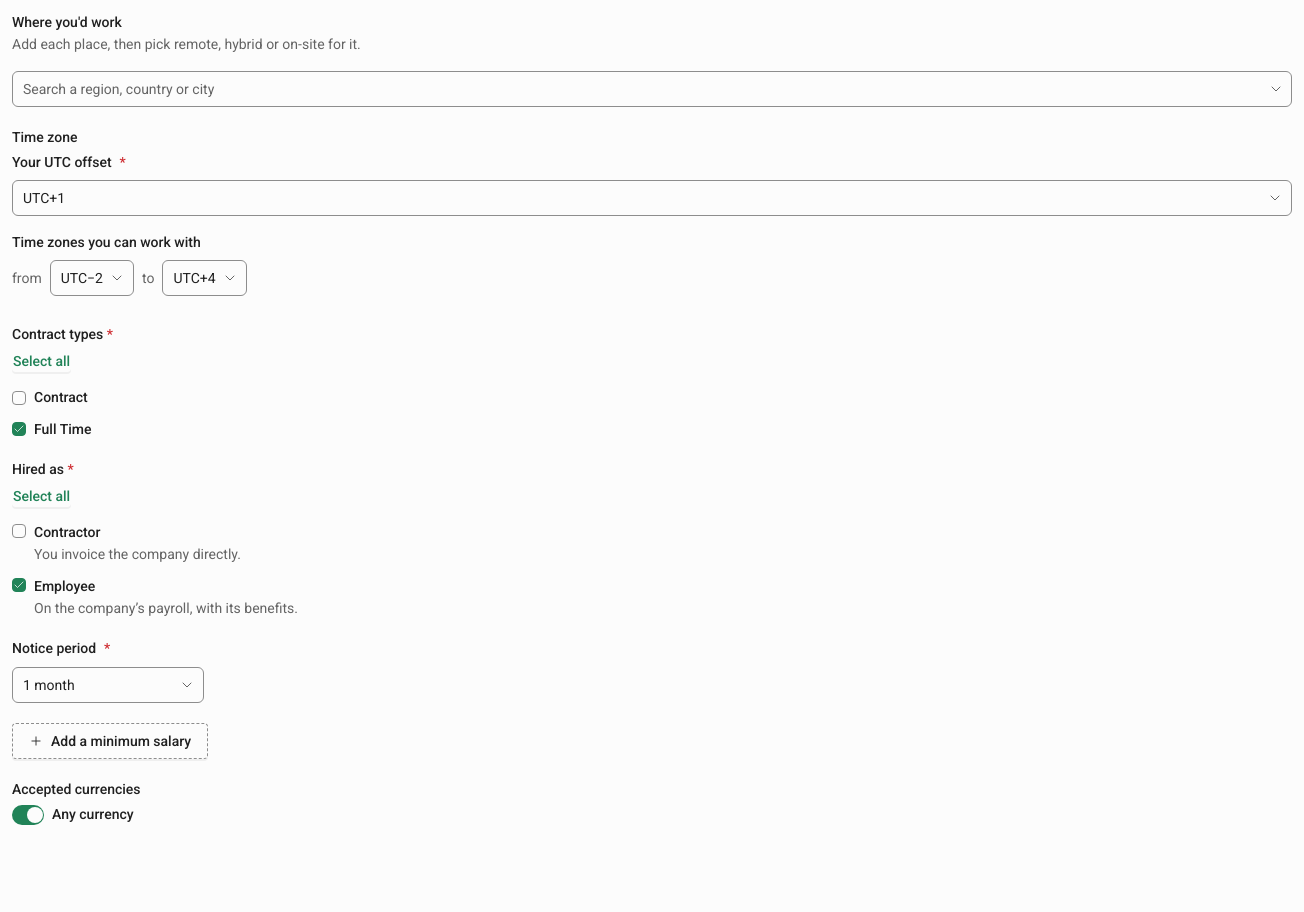
Test: TermsForm › a row with no arrangement is refused
This screenshot has width=1304, height=912.
In the dropdown named "Add a place": (638, 89) [13, 71, 1264, 107], type "germ"
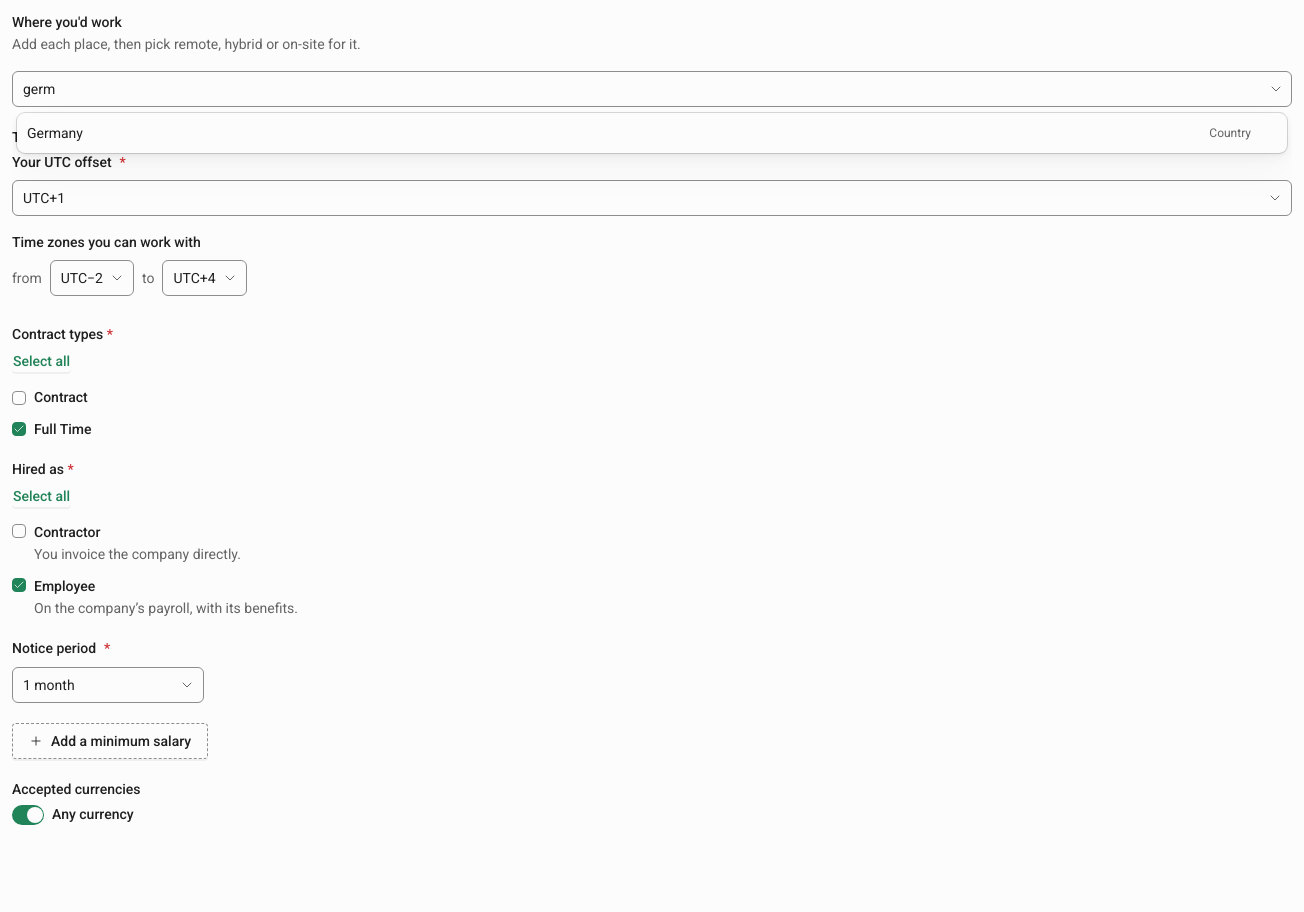
Click the option "Germany Country": (55, 133) [27, 125, 1251, 141]
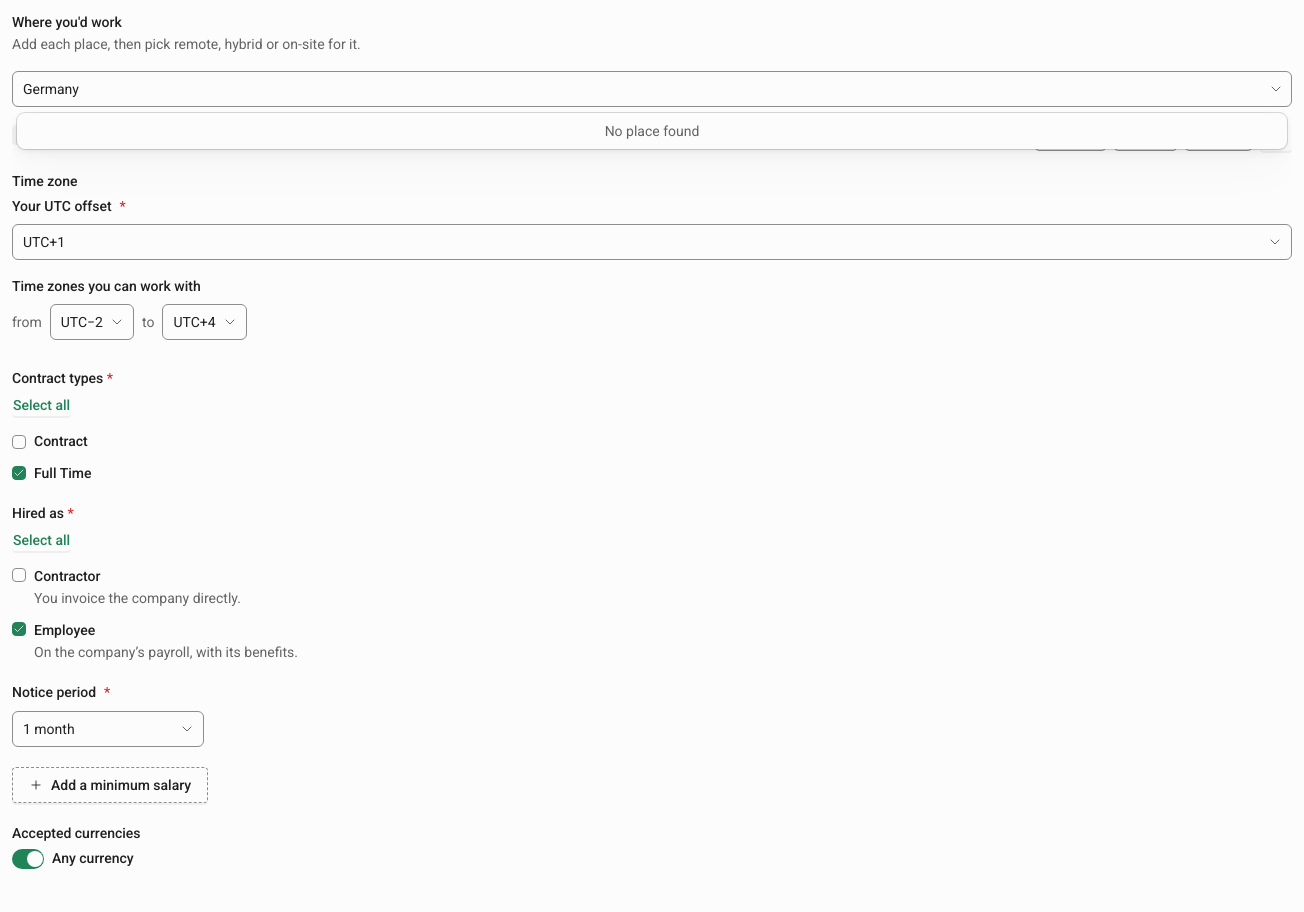
Submit the form
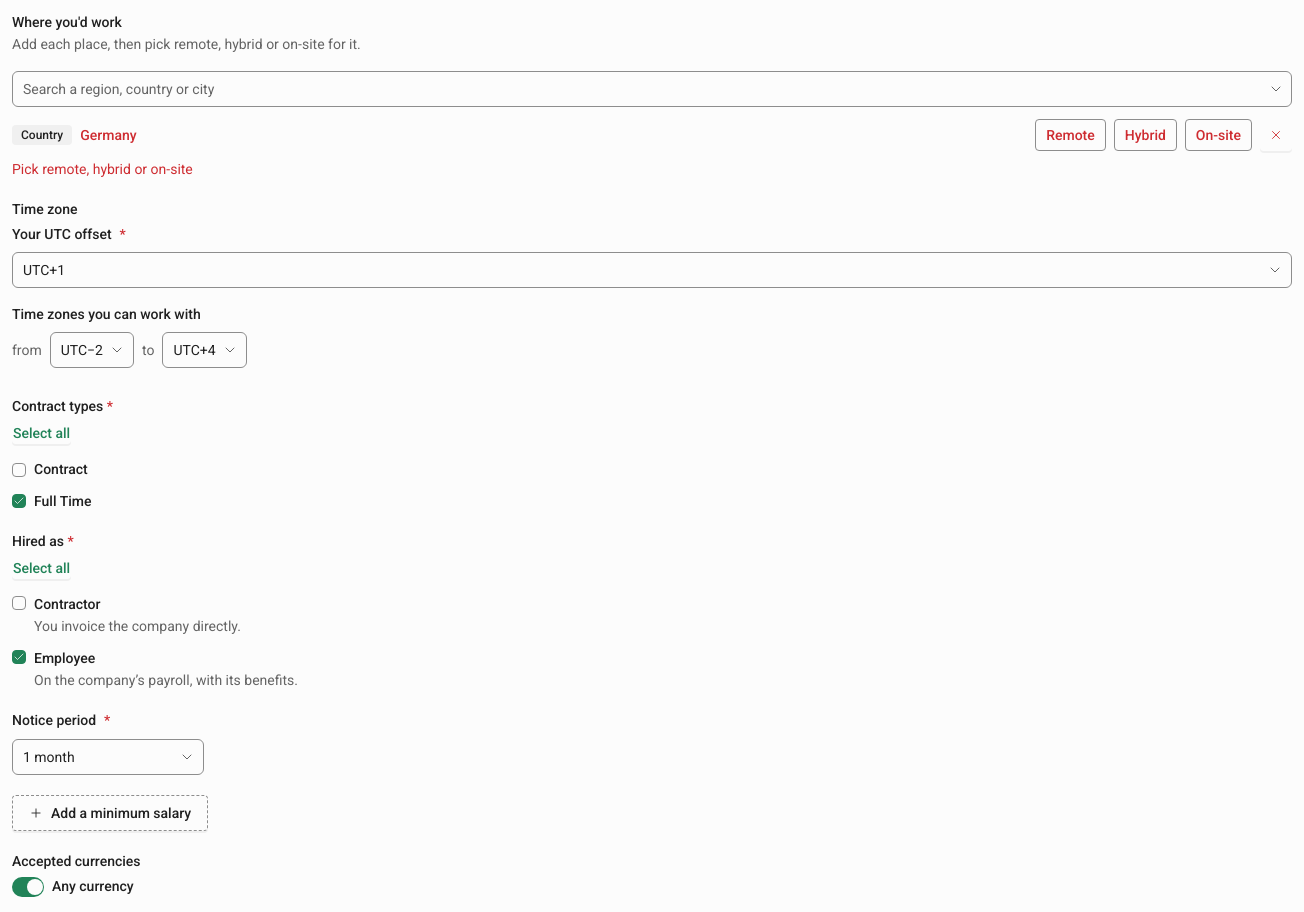
Now the text "Pick remote, hybrid or on-site" is shown, box [12, 161, 193, 177]
